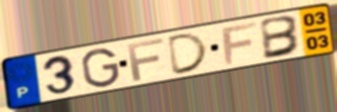3: (41, 53, 80, 98)
B: (260, 14, 304, 61)
D: (166, 30, 211, 77)
F: (126, 36, 166, 83), (220, 20, 259, 67)
G: (80, 47, 122, 89)
